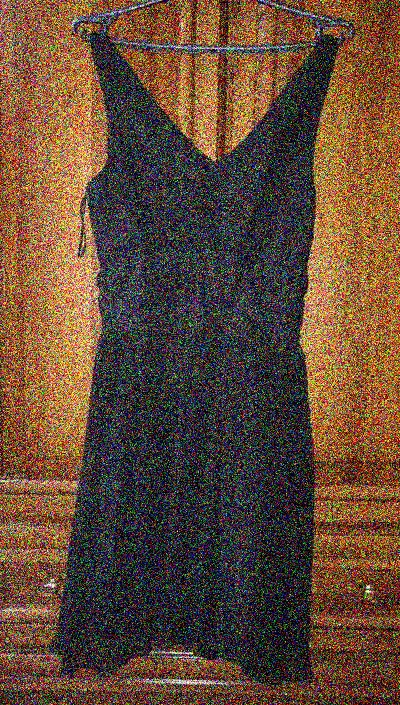Dress: (25, 11, 364, 690)
